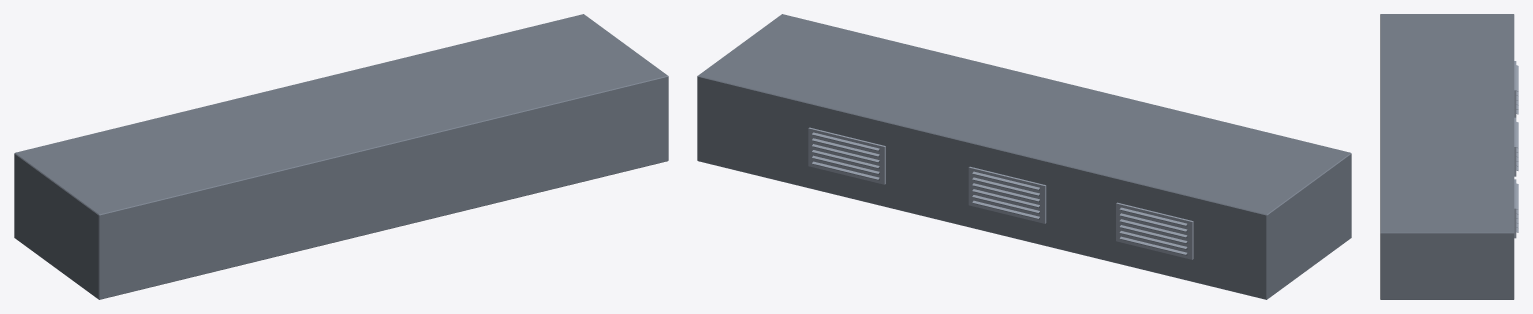
File: box_001_cutter-machine.fbx
The picture shows the model from 3 angles, left to right: view 1: azimuth 30°, elevation 25°; view 2: azimuth 150°, elevation 25°; view 3: azimuth 270°, elevation 25°; orthographic projection. The views are drawn at different scales.
Parts seen in each view (by area): view 1: box.001.cutter-machine; view 2: box.001.cutter-machine; view 3: box.001.cutter-machine.
Part boxes in pixels (x1,y1,x2,y2): box.001.cutter-machine: (14,14,668,299); box.001.cutter-machine: (697,14,1351,299); box.001.cutter-machine: (1380,14,1518,299).
Bounding box in the file's own units: 0.7673 × 0.1099 × 0.2045.
